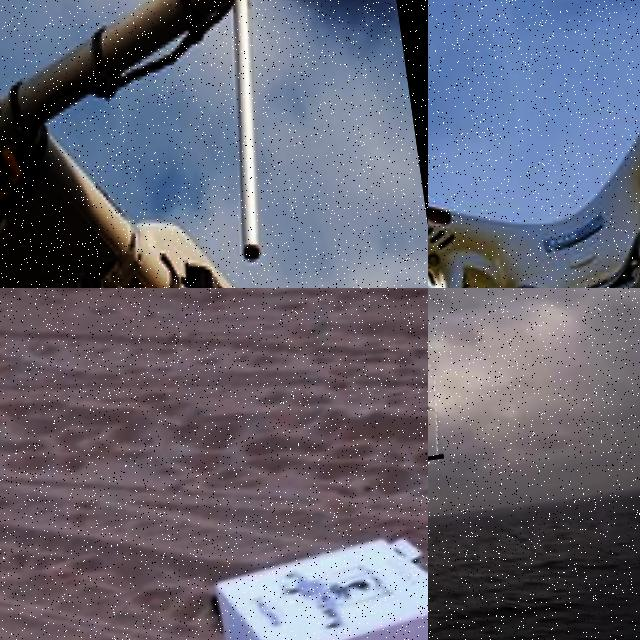0: (428, 0, 640, 288)
drone: (0, 0, 428, 288)
